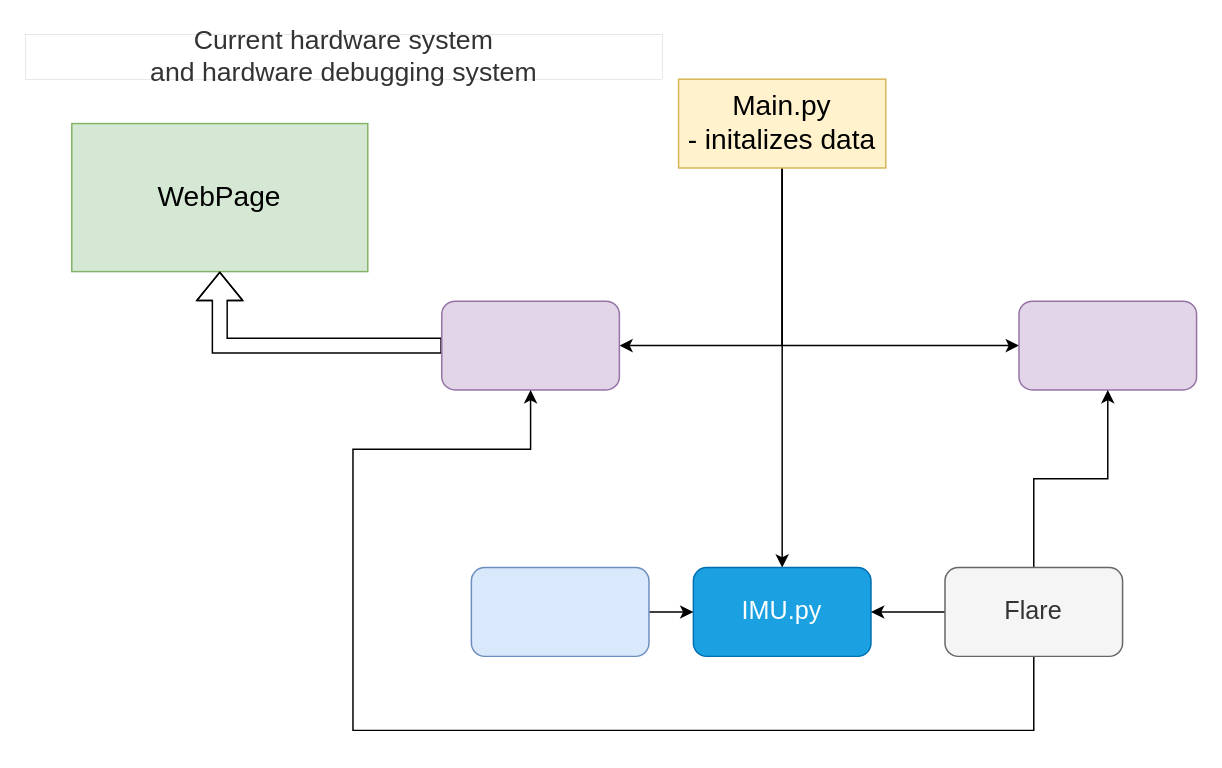
The diagram is 1222 pixels wide and 768 high, and some of its shapes have lost their labels. Each missing label, with the centre of its shape:
"Flask Server" belongs at (529,345).
"Math.py" belongs at (559,611).
"Web socket" belongs at (1107,345).
